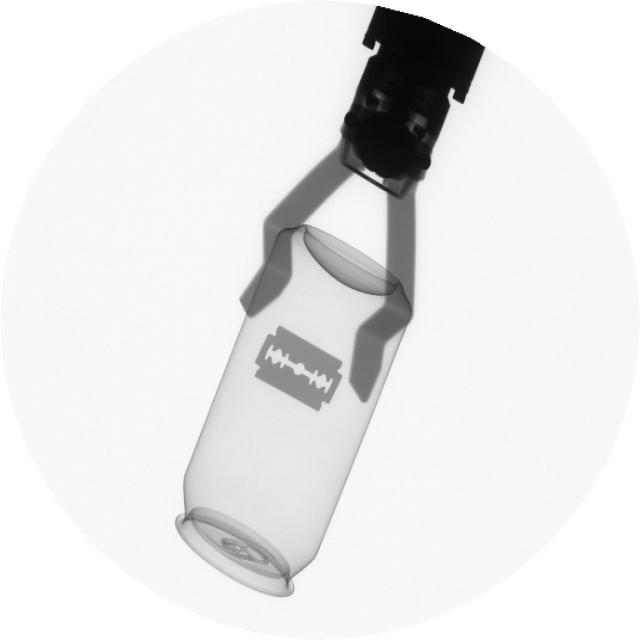BLADE: (248, 317, 354, 421)
